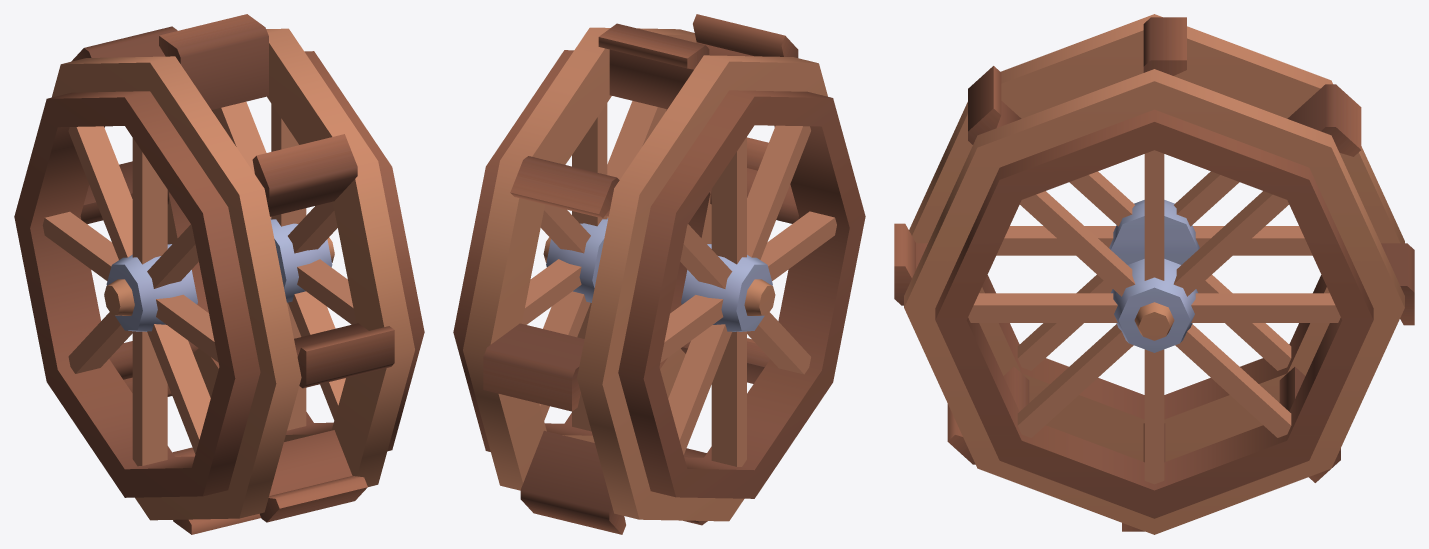
Rendered from k-fantasy-town-watermill.glb.
3 renders of one model, left to right at view 1: azimuth 30°, elevation 25°; view 2: azimuth 150°, elevation 25°; view 3: azimuth 270°, elevation 25°, orthographic.
Visible parts, largest first — view 1: watermill; view 2: watermill; view 3: watermill.
Boxes of the visible parts, x1,y1,x2,y2 form: watermill: (14, 14, 424, 534); watermill: (453, 14, 865, 534); watermill: (894, 14, 1414, 534).
Size of the model in its own units: 0.85 by 1.8 by 1.8.
1 material, 1 textured.
